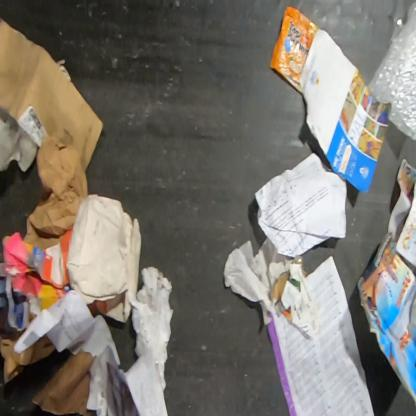cardboard: (0, 11, 106, 174), (300, 29, 392, 195), (65, 193, 143, 324), (1, 228, 75, 322), (29, 347, 98, 416), (0, 110, 39, 173)
soft_plastic: (365, 0, 415, 144), (269, 5, 322, 94)
